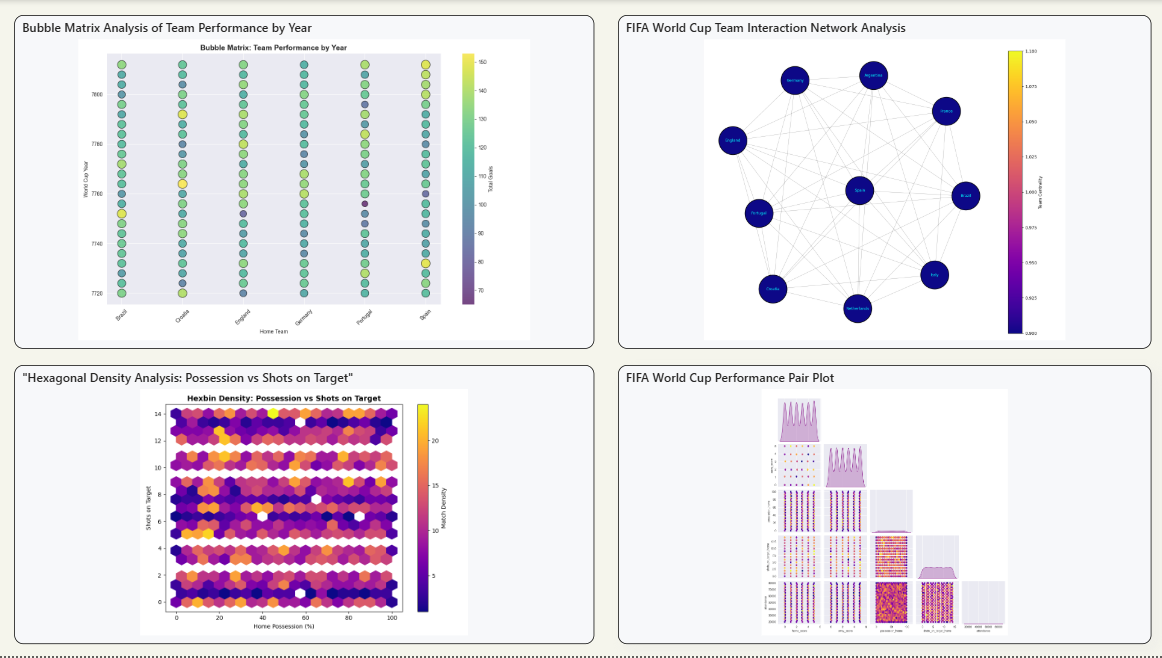

The page's visual inventory and layout, read from the dashboard file:
{"tool":"powerbi","page":{"name":"Page 6","canvas":[1280,720],"ordinal":5},"visuals":[{"type":"pythonVisual","title":"Bubble Matrix Analysis of Team Performance by Year","fields":{"Values":["fifa_worldcup clean_fifa_data.home_team","fifa_worldcup clean_fifa_data.worldcup_year","fifa_worldcup clean_fifa_data.home_score","fifa_worldcup clean_fifa_data.away_score"]},"box":[17.8,16.5,636.7,366.4],"z":0},{"type":"pythonVisual","title":"\"Hexagonal Density Analysis: Possession vs Shots on Target\"","fields":{"Values":["fifa_worldcup clean_fifa_data.possession_home","fifa_worldcup clean_fifa_data.shots_on_target_home","fifa_worldcup clean_fifa_data.shots_on_target_away","fifa_worldcup clean_fifa_data.total_shots","fifa_worldcup clean_fifa_data.attendance","fifa_worldcup clean_fifa_data.goal_difference","fifa_worldcup clean_fifa_data.Win Rate","fifa_worldcup clean_fifa_data.home_score","fifa_worldcup clean_fifa_data.away_score"]},"box":[17.8,400.7,636.7,306],"z":1000},{"type":"pythonVisual","title":"FIFA World Cup Team Interaction Network Analysis","fields":{"Values":["fifa_worldcup clean_fifa_data.home_team","fifa_worldcup clean_fifa_data.away_team"]},"box":[680.6,16.5,585.9,366.4],"z":2000},{"type":"pythonVisual","title":"FIFA World Cup Performance Pair Plot","fields":{"Values":["fifa_worldcup clean_fifa_data.home_score","fifa_worldcup clean_fifa_data.away_score","fifa_worldcup clean_fifa_data.possession_home","fifa_worldcup clean_fifa_data.shots_on_target_home","fifa_worldcup clean_fifa_data.attendance"]},"box":[680.6,400.7,585.9,306],"z":3000}]}

Visuals, with their boxes in screenshot pixels (x1, y1, x2, y2), scaled from the page's 1280x720 canvas onto the 1162x658 screenshot:
"Bubble Matrix Analysis of Team Performance by Year" pythonVisual: left=16, top=15, right=594, bottom=350
""Hexagonal Density Analysis: Possession vs Shots on Target"" pythonVisual: left=16, top=366, right=594, bottom=646
"FIFA World Cup Team Interaction Network Analysis" pythonVisual: left=618, top=15, right=1150, bottom=350
"FIFA World Cup Performance Pair Plot" pythonVisual: left=618, top=366, right=1150, bottom=646
